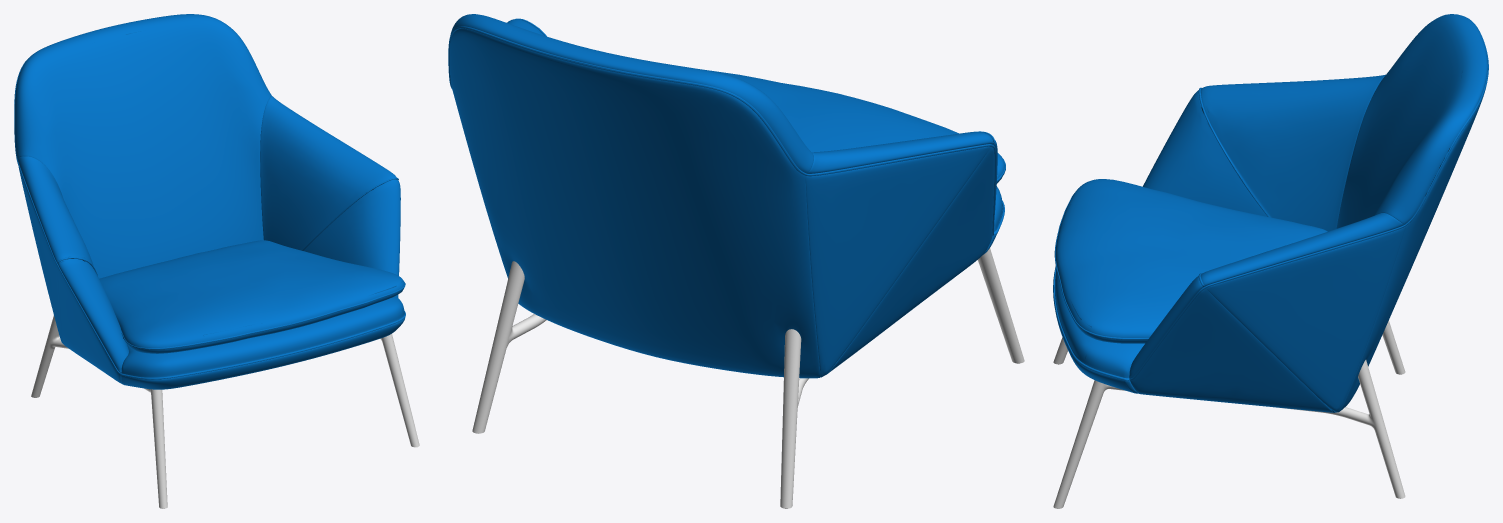
3 views of the same model, side by side, from view 1: azimuth 30°, elevation 25°; view 2: azimuth 150°, elevation 25°; view 3: azimuth 270°, elevation 25° (orthographic). The views are drawn at different scales.
Visible parts, largest first — view 1: HUG_ARMCHAIR.017_HUG_ARMCHAIR.024; view 2: HUG_ARMCHAIR.017_HUG_ARMCHAIR.024; view 3: HUG_ARMCHAIR.017_HUG_ARMCHAIR.024.
Part boxes in pixels (bbox=[...]): HUG_ARMCHAIR.017_HUG_ARMCHAIR.024: bbox=[14, 14, 419, 508]; HUG_ARMCHAIR.017_HUG_ARMCHAIR.024: bbox=[448, 14, 1024, 508]; HUG_ARMCHAIR.017_HUG_ARMCHAIR.024: bbox=[1053, 14, 1488, 508].
Size of the model in its own units: 0.3878 by 0.3453 by 0.365.
Materials: 2 (1 with a texture image).
